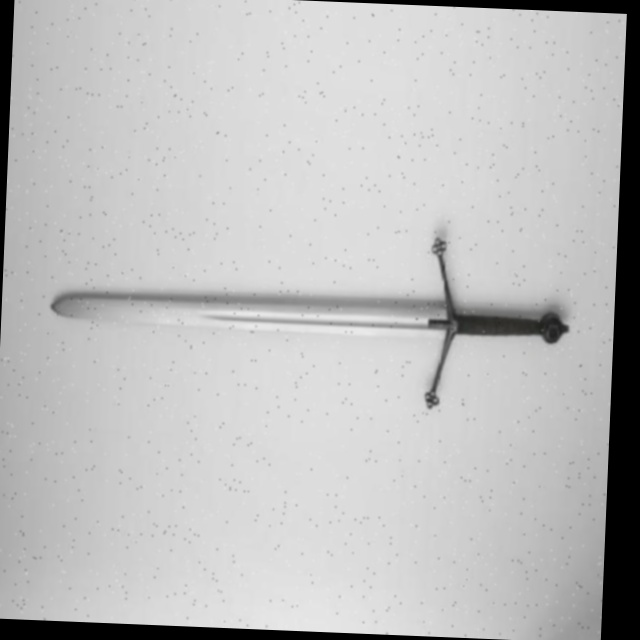Sharp-Object: (51, 263, 574, 357)
